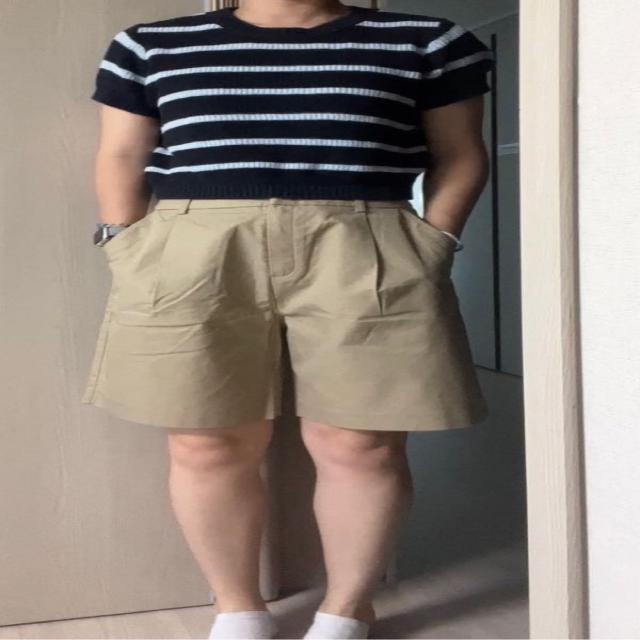shortpants: (85, 195, 487, 430)
shortsleeve: (89, 3, 496, 198)
